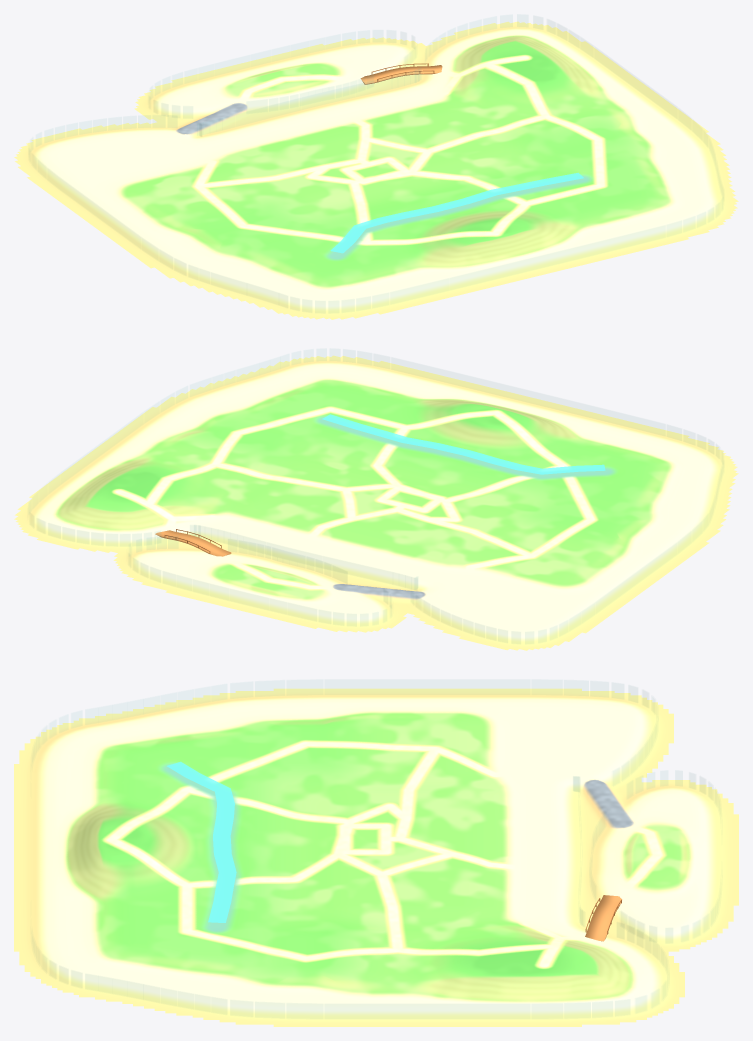
File: map-windwaker-bay.glb
3 renders of one model, top to bottom at view 1: azimuth 30°, elevation 25°; view 2: azimuth 150°, elevation 25°; view 3: azimuth 270°, elevation 25°, orthographic. The views are drawn at different scales.
Visible parts, largest first — view 1: WindWaker_Bay_Terrain, Firefly_Creek_Water, F37_West_Arch_Bridge; view 2: WindWaker_Bay_Terrain, Firefly_Creek_Water, F37_West_Arch_Bridge; view 3: WindWaker_Bay_Terrain, Firefly_Creek_Water, F37_West_Arch_Bridge.
Part boxes in pixels (x1,y1,x2,y2): WindWaker_Bay_Terrain: [14, 21, 738, 319]; Firefly_Creek_Water: [330, 172, 583, 253]; F37_West_Arch_Bridge: [360, 65, 442, 84]; WindWaker_Bay_Terrain: [14, 355, 738, 650]; Firefly_Creek_Water: [322, 414, 605, 474]; F37_West_Arch_Bridge: [155, 530, 231, 556]; WindWaker_Bay_Terrain: [14, 688, 738, 1026]; Firefly_Creek_Water: [167, 761, 236, 922]; F37_West_Arch_Bridge: [585, 895, 622, 941].
Size of the model in its own units: 148 by 3.7 by 134.
6 materials, 1 textured.
